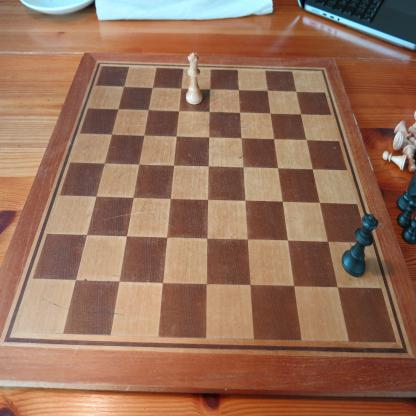black-pawn: (396, 197, 416, 230), (401, 213, 415, 246)
black-queen: (341, 211, 379, 278)
white-pawn: (382, 150, 408, 172), (402, 144, 416, 174)
white-queen: (185, 51, 203, 106)
